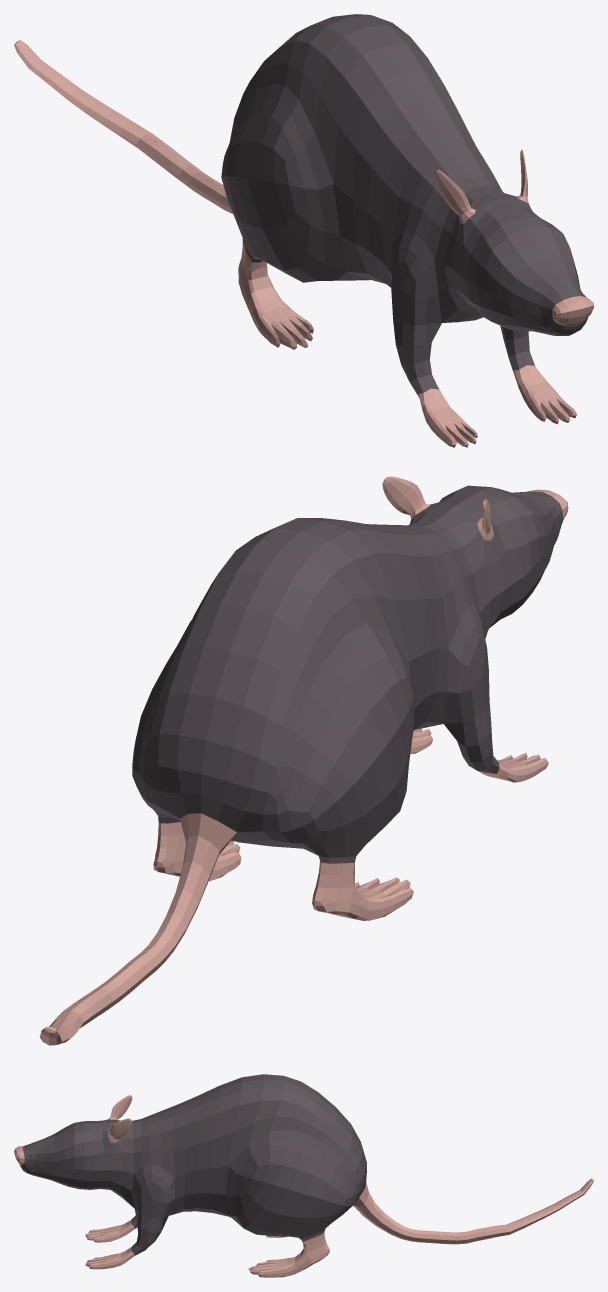
The model's file is q-easy-enemies-rat.glb.
3 views of the same model, one above another, from view 1: azimuth 30°, elevation 25°; view 2: azimuth 150°, elevation 25°; view 3: azimuth 270°, elevation 25° (orthographic). The views are drawn at different scales.
Visible parts, largest first — view 1: Grey, Pink; view 2: Grey, Pink; view 3: Grey, Pink.
Boxes of the visible parts, box(x1,y1,x2,y2) form: Grey: box(221, 14, 588, 397); Pink: box(14, 40, 593, 447); Grey: box(132, 485, 563, 863); Pink: box(40, 476, 568, 1045); Grey: box(20, 1074, 366, 1255); Pink: box(14, 1095, 593, 1277).
Bounding box in the file's own units: 1.51 × 2.24 × 6.81.
